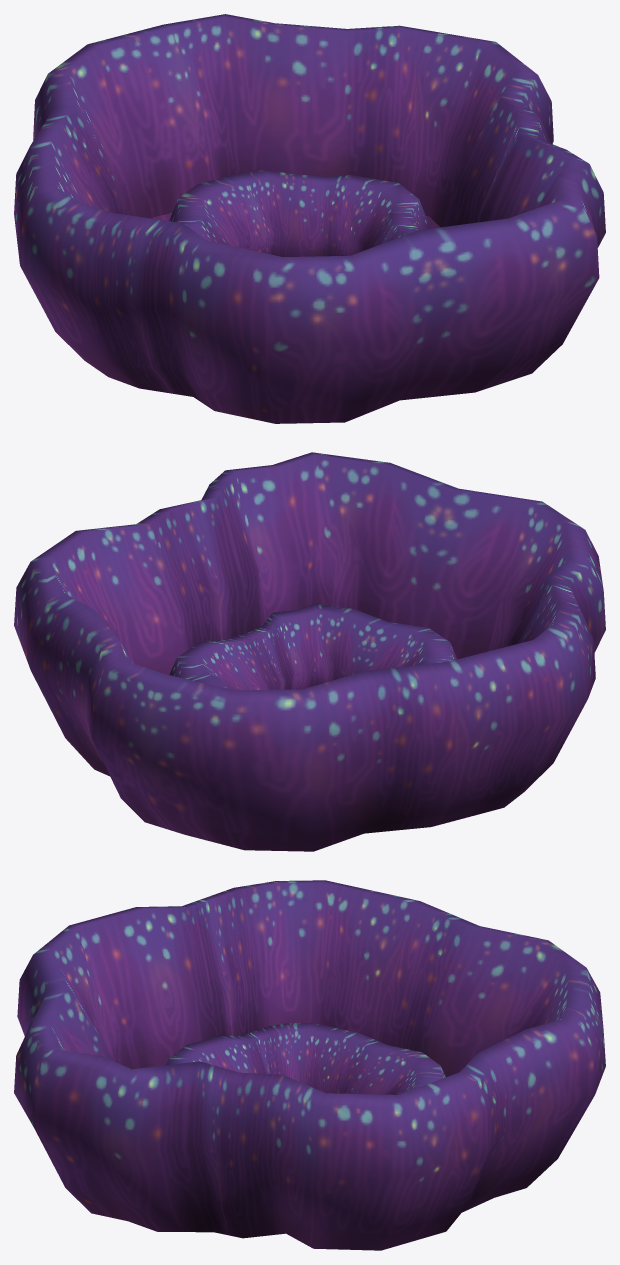
The model's file is DimRock_Purple_05.FBX.
The picture shows the model from 3 angles, top to bottom: view 1: azimuth 30°, elevation 25°; view 2: azimuth 150°, elevation 25°; view 3: azimuth 270°, elevation 25°; orthographic projection. The views are drawn at different scales.
Parts seen in each view (by area): view 1: DimRock_Purple_05; view 2: DimRock_Purple_05; view 3: DimRock_Purple_05.
Part boxes in pixels (x1,y1,x2,y2): DimRock_Purple_05: [14, 14, 605, 423]; DimRock_Purple_05: [14, 452, 605, 851]; DimRock_Purple_05: [14, 880, 605, 1250].
Bounding box in the file's own units: 71.98 × 24.06 × 74.8.
